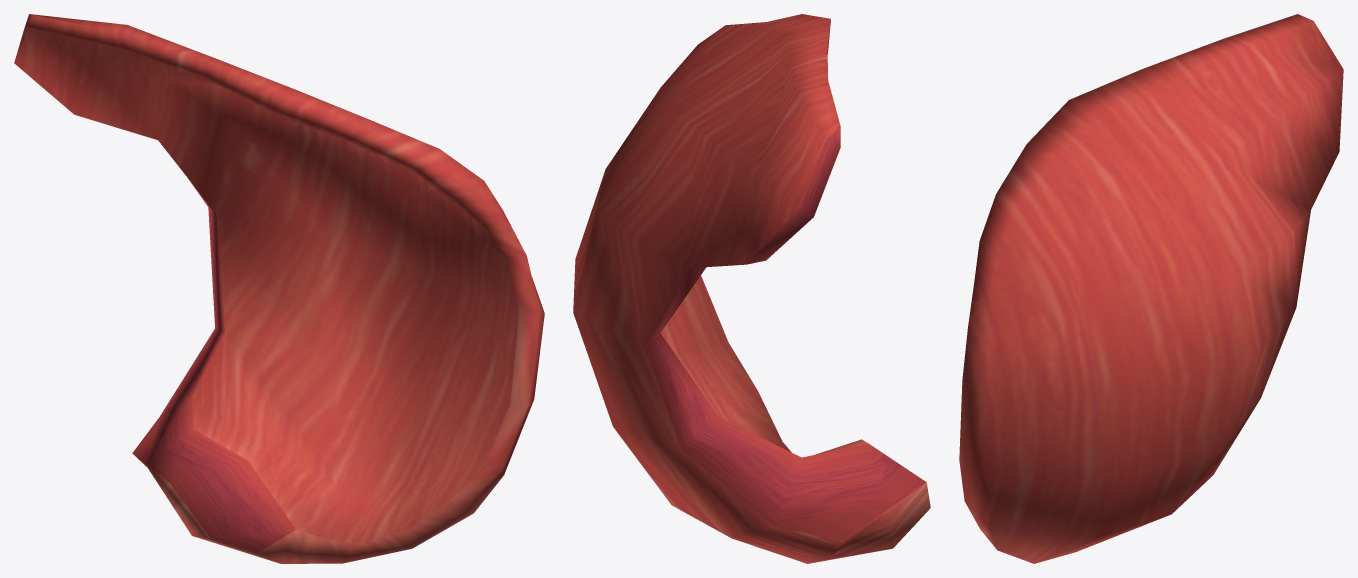
File: CostalEsq.fbx
The picture shows the model from 3 angles, left to right: view 1: azimuth 30°, elevation 25°; view 2: azimuth 150°, elevation 25°; view 3: azimuth 270°, elevation 25°; orthographic projection. The views are drawn at different scales.
Parts seen in each view (by area): view 1: CostalEsq; view 2: CostalEsq; view 3: CostalEsq.
Boxes of the visible parts, <box> form: CostalEsq: <box>14,14,544,563</box>; CostalEsq: <box>573,14,930,563</box>; CostalEsq: <box>959,14,1343,563</box>.
Bounding box in the file's own units: 38.67 × 52.58 × 40.19.
